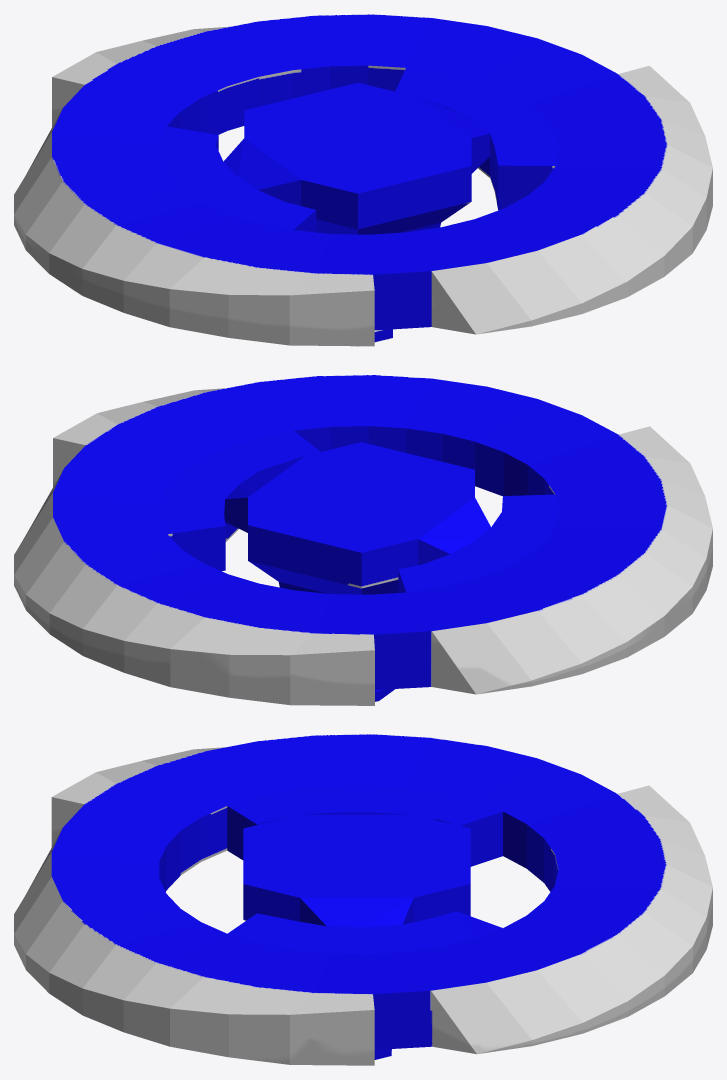
Rendered from beyblade.fbx.
3 renders of one model, top to bottom at view 1: azimuth 30°, elevation 25°; view 2: azimuth 150°, elevation 25°; view 3: azimuth 270°, elevation 25°, orthographic.
Visible parts, largest first — view 1: Cylinder; view 2: Cylinder; view 3: Cylinder.
Part boxes in pixels (<box>): Cylinder: <box>14,14,712,346</box>; Cylinder: <box>14,375,712,705</box>; Cylinder: <box>14,734,712,1065</box>.
Bounding box in the file's own units: 896 × 275 × 895.
Materials: 1 (1 with a texture image).
